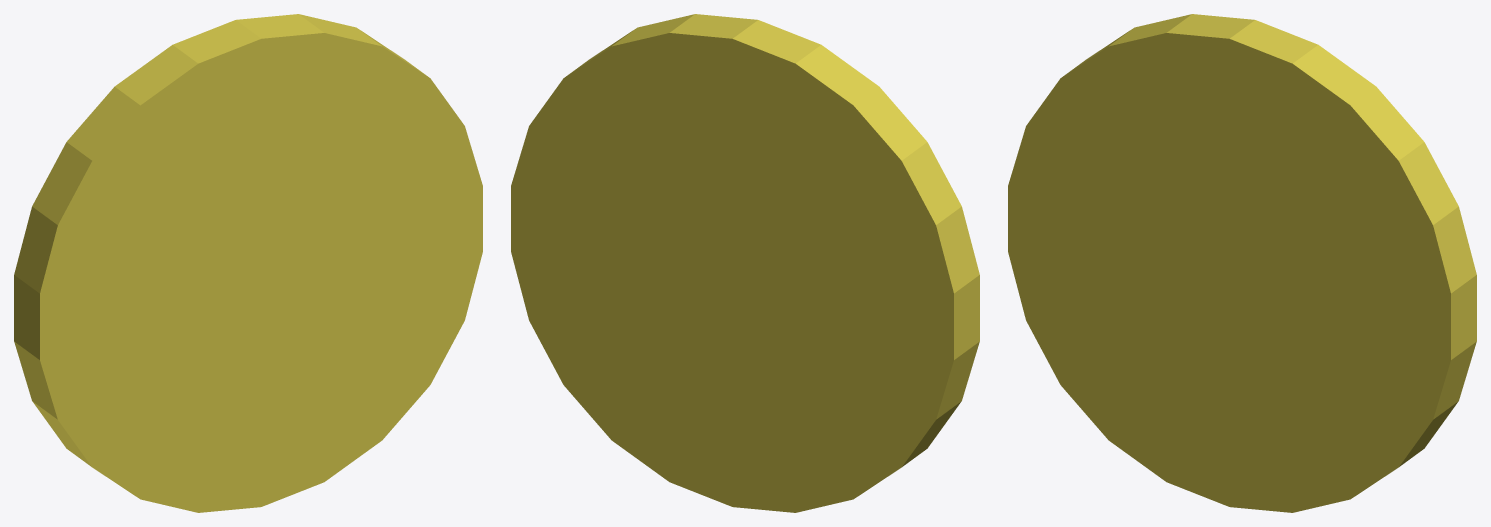
Rendered from coin.glb.
The picture shows the model from 3 angles, left to right: view 1: azimuth 30°, elevation 25°; view 2: azimuth 150°, elevation 25°; view 3: azimuth 330°, elevation 25°; orthographic projection.
Parts seen in each view (by area): view 1: Mesh_Mesh_head_geo.001_lambert2SG.001; view 2: Mesh_Mesh_head_geo.001_lambert2SG.001; view 3: Mesh_Mesh_head_geo.001_lambert2SG.001.
Part boxes in pixels (x1=…): Mesh_Mesh_head_geo.001_lambert2SG.001: x1=14, y1=14, x2=482, y2=512; Mesh_Mesh_head_geo.001_lambert2SG.001: x1=511, y1=14, x2=979, y2=512; Mesh_Mesh_head_geo.001_lambert2SG.001: x1=1008, y1=14, x2=1476, y2=512.
Size of the model in its own units: 19.8 by 20 by 2.
